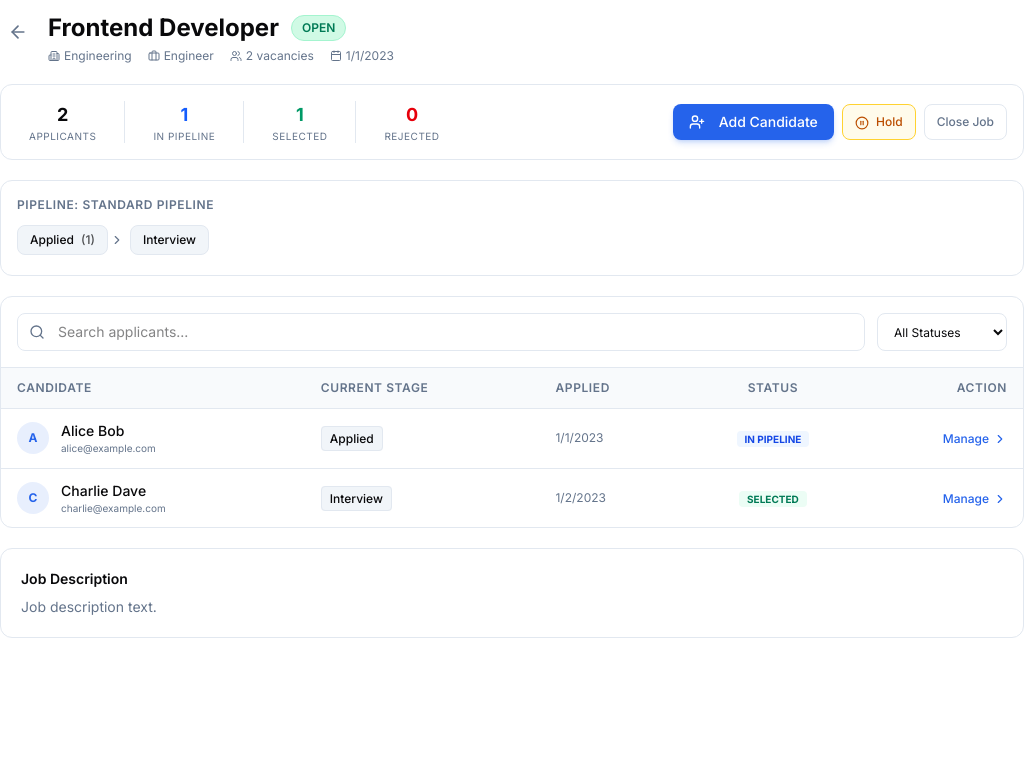
Scenario: Job Detail Page › should filter applicants by status dropdown
expect the text "Alice Bob" is shown: met, box [61,422,124,439]
# Select IN_PIPELINE
Select "In Pipeline" in the dropdown at (942, 332), box [877,313,1007,351]
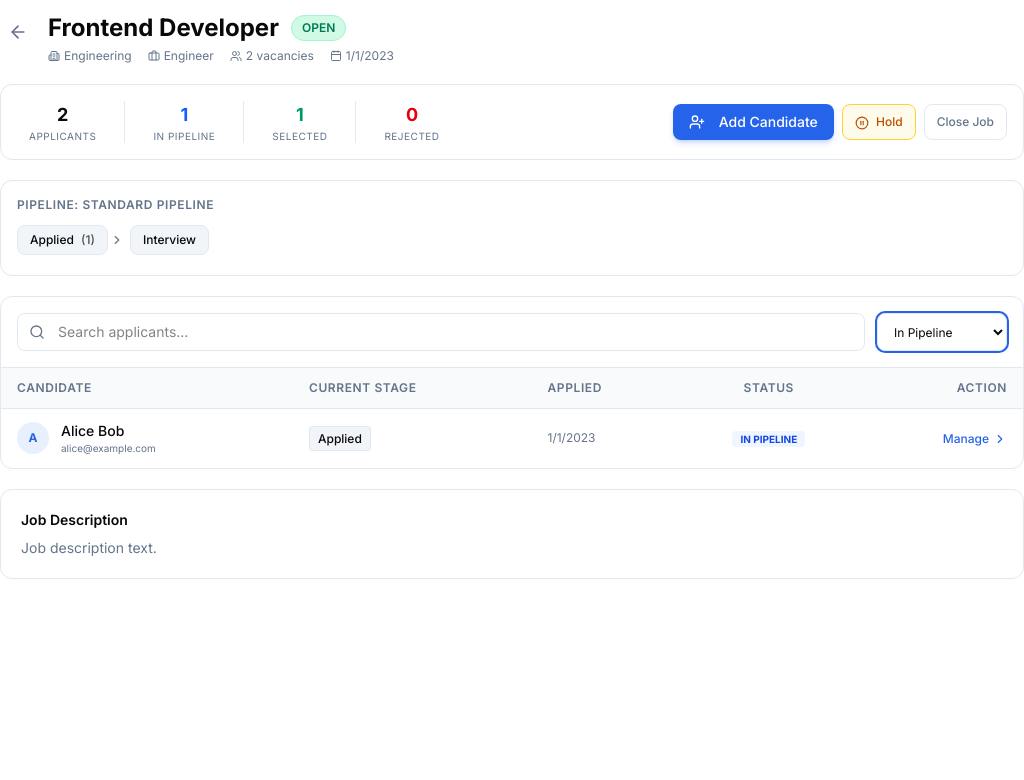
expect the text "Alice Bob" is shown: met, box [61,422,124,439]
expect the text "Charlie Dave" is gone: met
